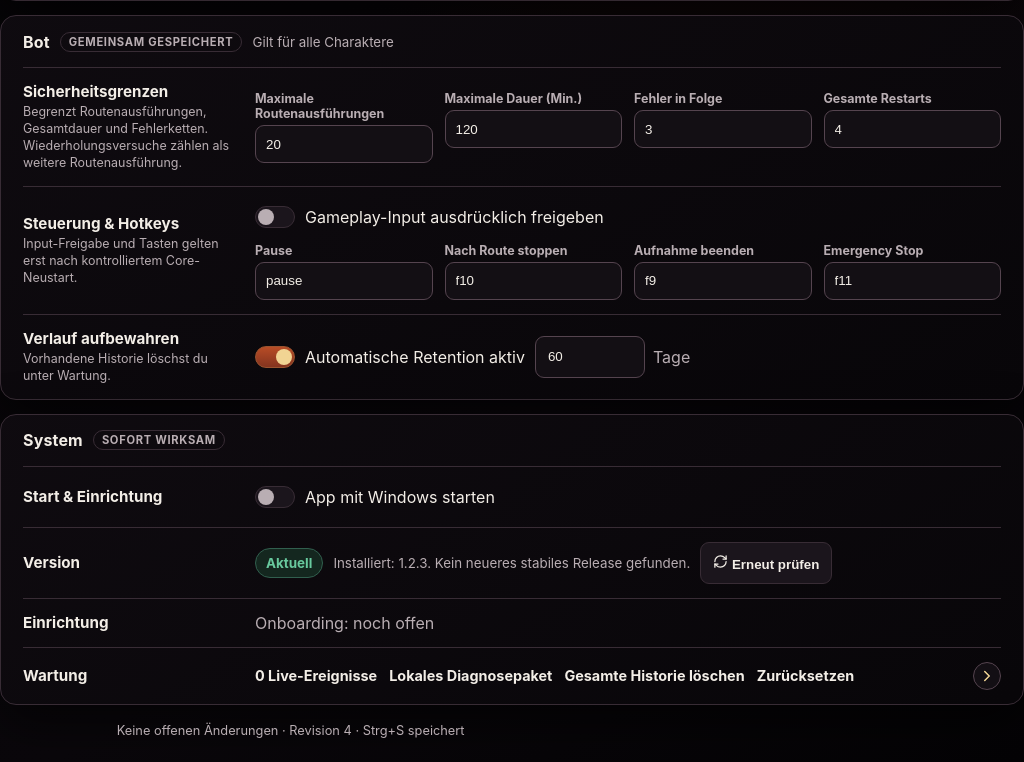
Test: SettingsFeature › löscht Historie nur über metadatengebundene zweite Bestätigung
(page scrolled)
Click the button "Wartung": (512, 676) [1,648,1023,704]
(page scrolled)
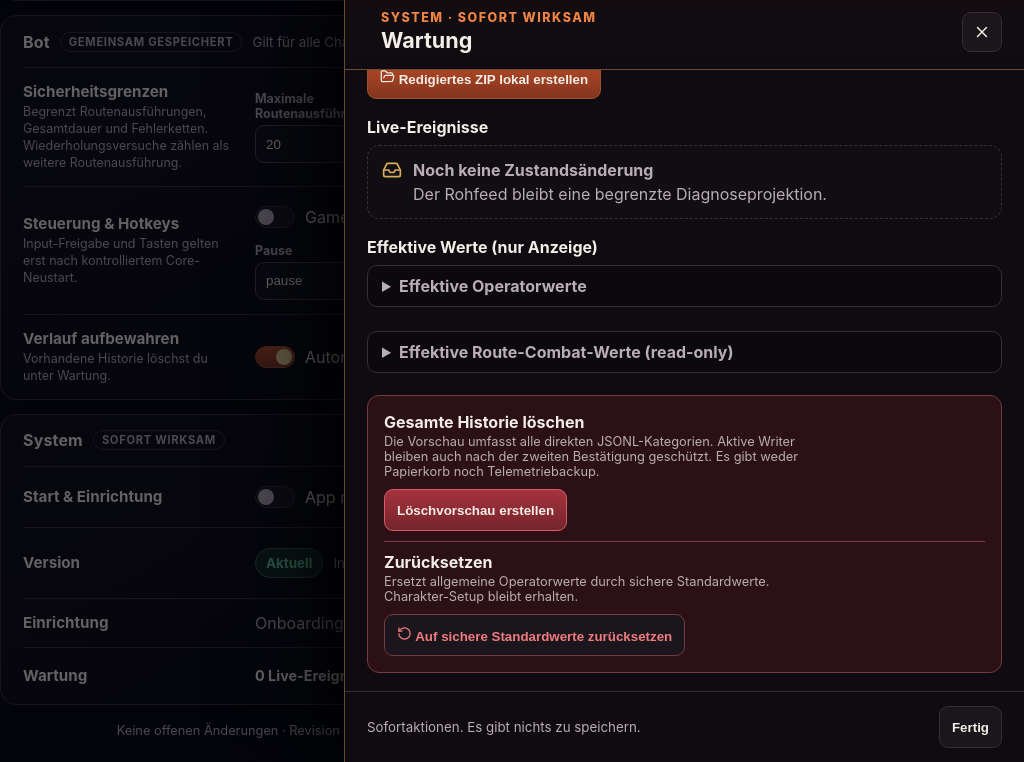
Click the button "Löschvorschau erstellen": (476, 510) [384,489,567,531]
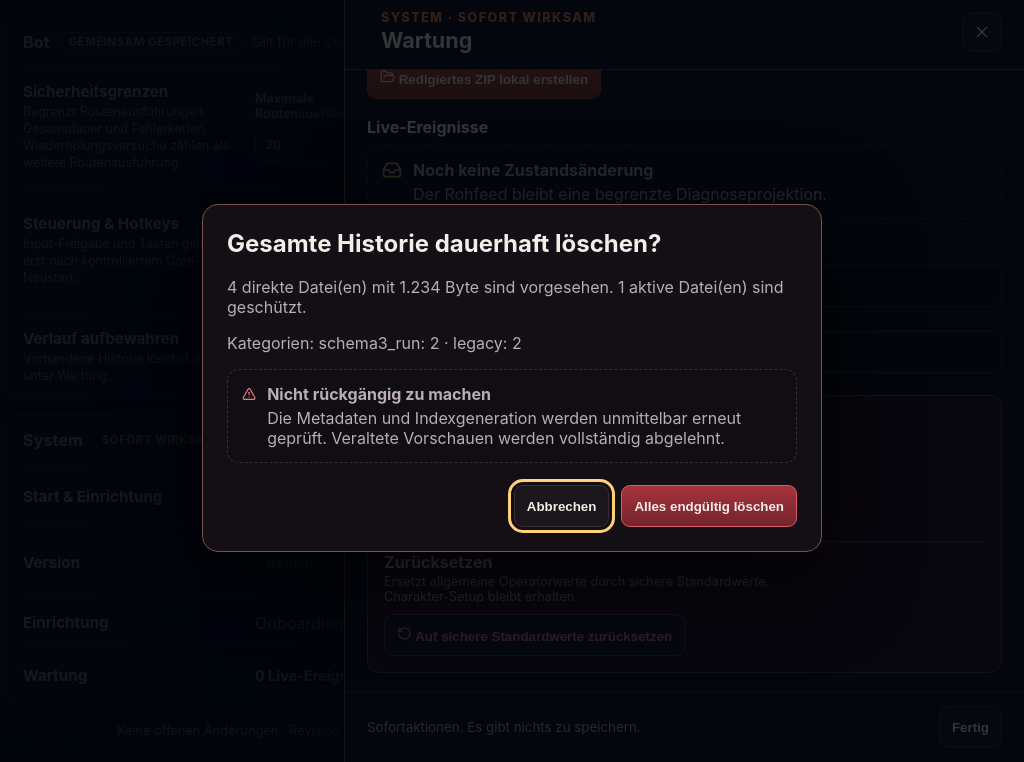
Now the dialog "Gesamte Historie dauerhaft löschen?" shows "4 direkte Datei(en)", box [227,278,784,318]
Now the dialog "Gesamte Historie dauerhaft löschen?" shows "schema3_run: 2", box [227,334,522,354]
Click the button "Alles endgültig löschen": (709, 506) [621,486,797,528]
(page scrolled)
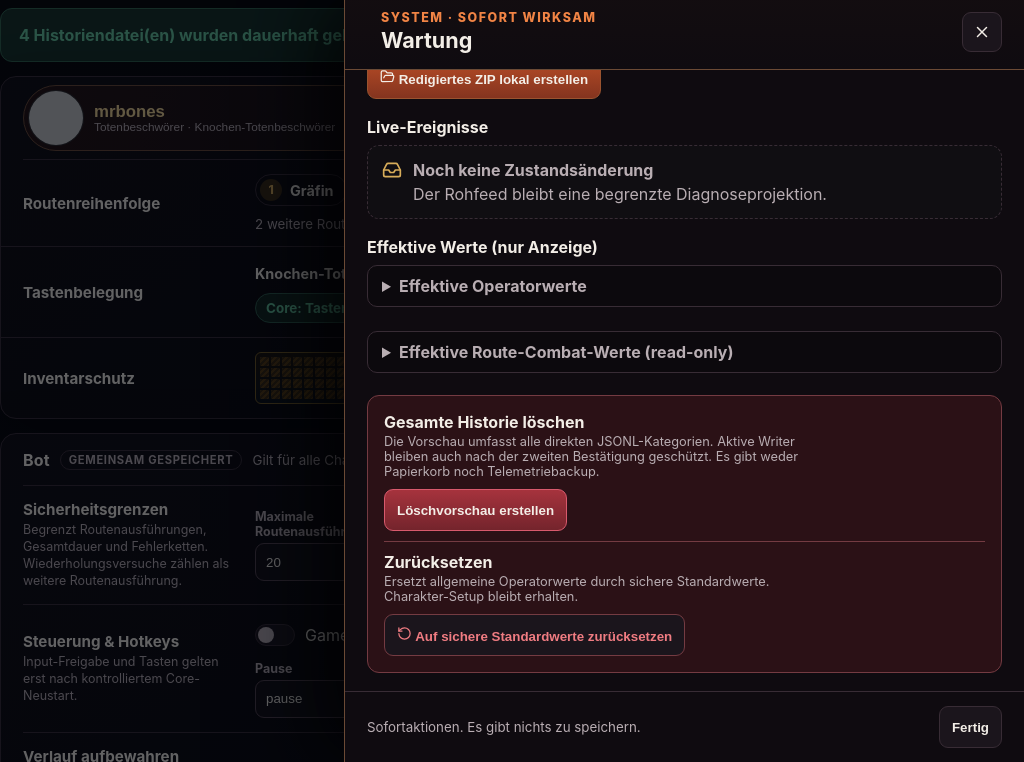
Now the text "4 Historiendatei" shows "1 aktive Datei(en) blieben geschützt", box [19,25,683,45]
